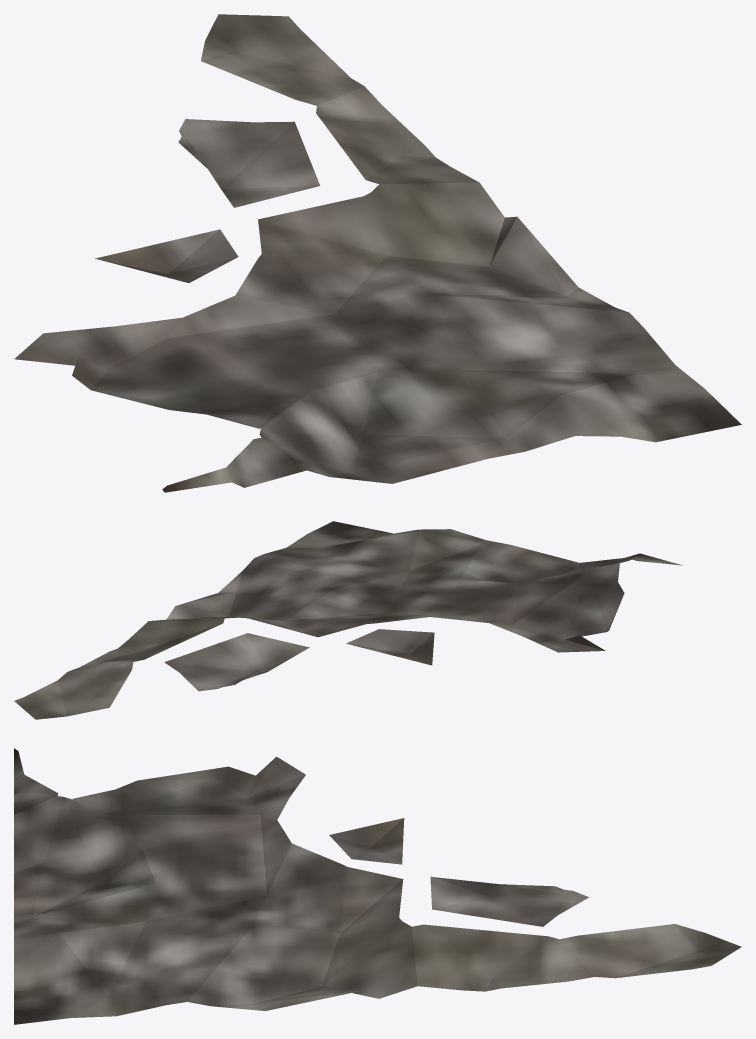
3 renders of one model, top to bottom at view 1: azimuth 30°, elevation 25°; view 2: azimuth 150°, elevation 25°; view 3: azimuth 270°, elevation 25°, orthographic. The views are drawn at different scales.
Size of the model in its own units: 0.1534 by 0.0194 by 0.2167.
1 material, 1 textured.
